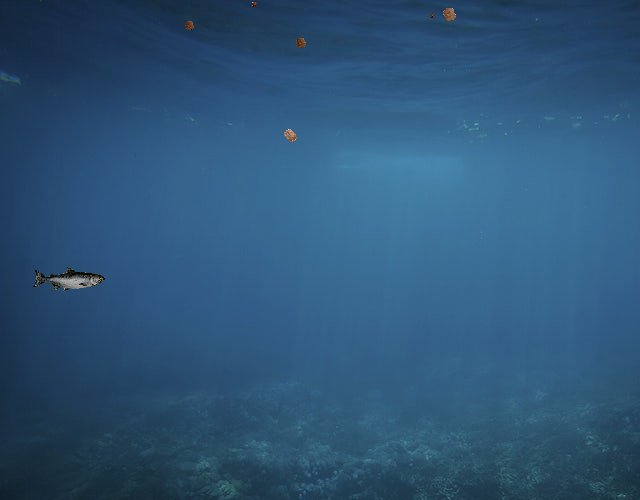Fish: (32, 266, 105, 292)
Pellet: (276, 122, 304, 150), (290, 32, 312, 54), (248, 0, 260, 10)
